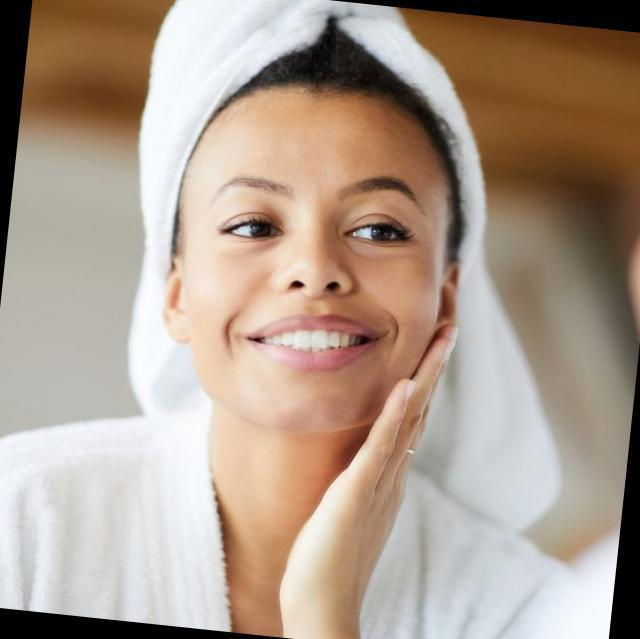Sober: (193, 113, 441, 403)
